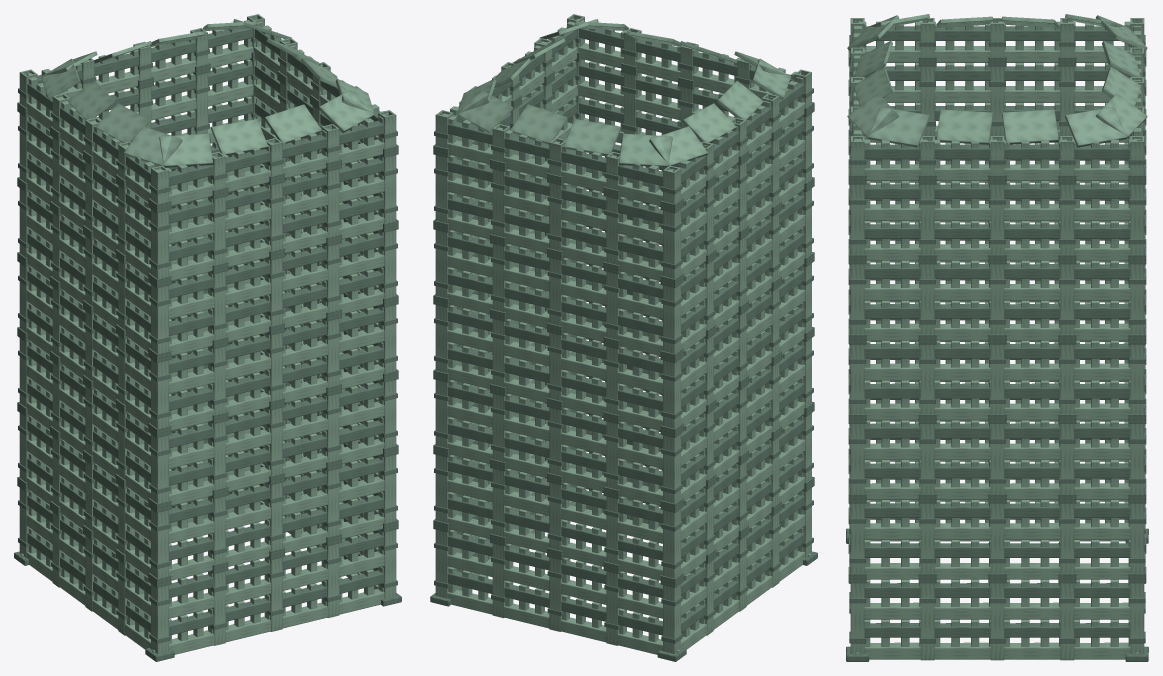
3 views of the same model, side by side, from view 1: azimuth 30°, elevation 25°; view 2: azimuth 150°, elevation 25°; view 3: azimuth 270°, elevation 25° (orthographic). The views are drawn at different scales.
Visible parts, largest first — view 1: Crown alloy petal 0-1, Crown alloy petal 0-0, Crown alloy petal 0-2, Crown alloy petal 3-3, Crown alloy petal 3-2, Crown alloy petal 0-3, Tier 0 side 0 post 0, Tier 2 side 0 post 0, Tier 5 side 0 post 0, Crown alloy petal 3-1, Tier 1 side 0 post 0, Tier 3 side 0 post 0 (+140 smaller); view 2: Crown alloy petal 2-2, Crown alloy petal 2-3, Crown alloy petal 2-1, Crown alloy petal 3-0, Crown alloy petal 3-1, Crown alloy petal 2-0, Tier 0 side 3 post 0, Tier 2 side 3 post 0, Crown alloy petal 3-2, Tier 5 side 3 post 0, Tier 4 side 3 post 0, Tier 1 side 3 post 0 (+142 smaller); view 3: Crown alloy petal 1-2, Crown alloy petal 1-1, Crown alloy petal 1-3, Crown alloy petal 1-0, Crown alloy petal 0-3, Tier 0 side 1 post 1, Tier 0 side 1 post 3, Crown alloy petal 2-0, Tier 0 side 1 post 2, Tier 1 side 1 post 0, Tier 1 side 1 post 1, Tier 1 side 1 post 3 (+163 smaller).
Part boxes in pixels (x1,y1,x2,y2): Crown alloy petal 0-1: (211, 119, 268, 155); Crown alloy petal 0-0: (159, 133, 212, 167); Crown alloy petal 0-2: (264, 104, 321, 143); Crown alloy petal 3-3: (124, 126, 182, 166); Crown alloy petal 3-2: (95, 103, 149, 143); Crown alloy petal 0-3: (318, 90, 374, 132); Tier 0 side 0 post 0: (151, 584, 168, 653); Tier 2 side 0 post 0: (151, 434, 168, 503); Tier 5 side 0 post 0: (151, 209, 168, 278); Crown alloy petal 3-1: (68, 80, 114, 120); Tier 1 side 0 post 0: (151, 509, 168, 578); Tier 3 side 0 post 0: (151, 359, 168, 428); Crown alloy petal 2-2: (563, 119, 620, 155); Crown alloy petal 2-3: (619, 133, 672, 167); Crown alloy petal 2-1: (510, 104, 567, 144); Crown alloy petal 3-0: (649, 126, 707, 166); Crown alloy petal 3-1: (682, 103, 736, 142); Crown alloy petal 2-0: (457, 90, 513, 132); Tier 0 side 3 post 0: (663, 584, 680, 653); Tier 2 side 3 post 0: (663, 434, 680, 503); Crown alloy petal 3-2: (717, 80, 763, 119); Tier 5 side 3 post 0: (663, 209, 680, 278); Tier 4 side 3 post 0: (663, 284, 680, 353); Tier 1 side 3 post 0: (663, 509, 680, 578); Crown alloy petal 1-2: (1002, 109, 1058, 144); Crown alloy petal 1-1: (936, 109, 992, 144); Crown alloy petal 1-3: (1065, 107, 1126, 147); Crown alloy petal 1-0: (868, 107, 929, 147); Crown alloy petal 0-3: (847, 93, 899, 138); Tier 0 side 1 post 1: (920, 583, 934, 660); Tier 0 side 1 post 3: (1060, 583, 1074, 660); Crown alloy petal 2-0: (1095, 93, 1147, 138); Tier 0 side 1 post 2: (990, 583, 1004, 660); Tier 1 side 1 post 0: (850, 503, 864, 573); Tier 1 side 1 post 1: (920, 503, 934, 573); Tier 1 side 1 post 3: (1060, 503, 1074, 573).
Size of the model in its own units: 1.95 by 3.79 by 1.95.
Materials: 2 (2 with a texture image).
